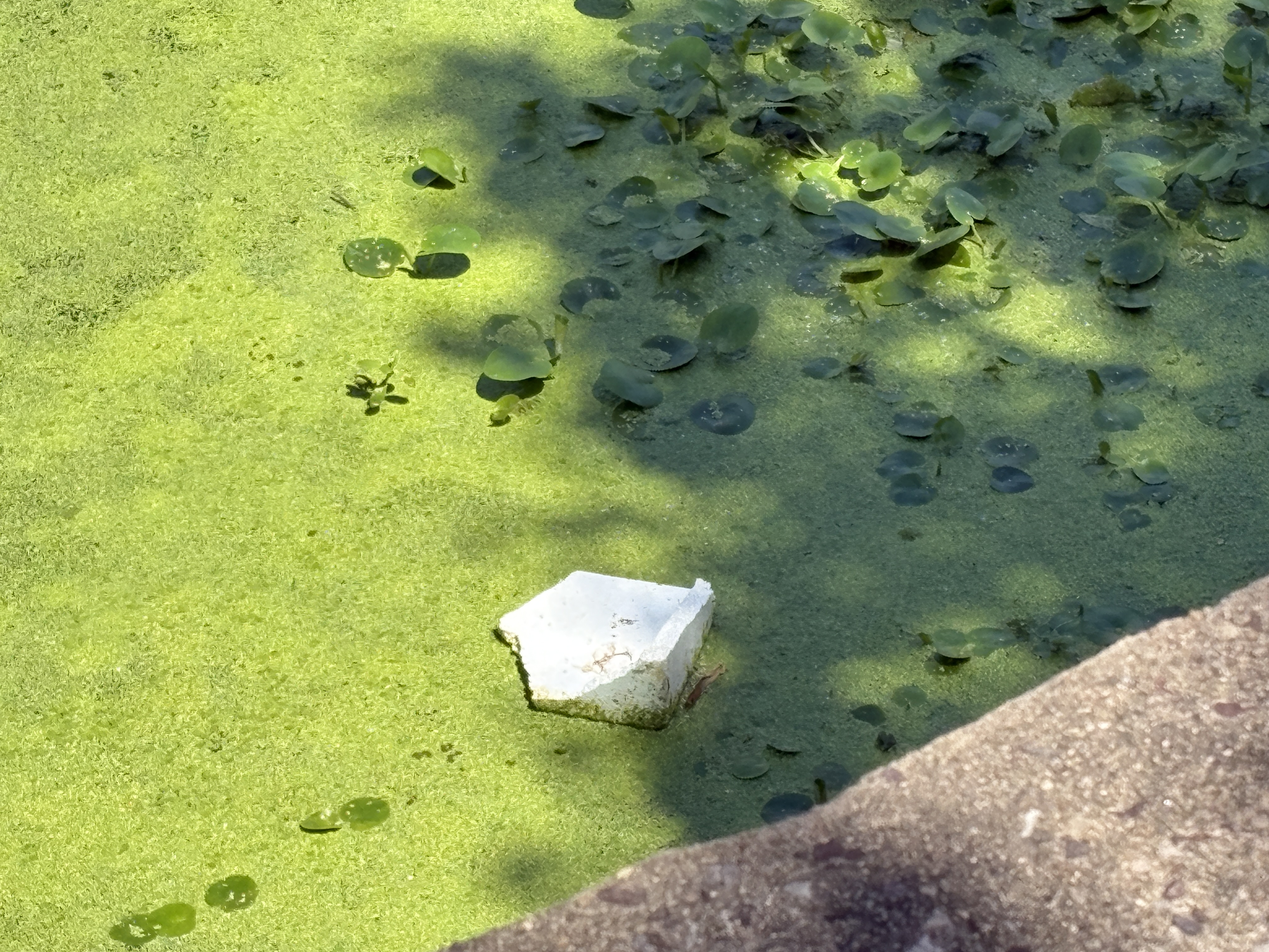Plastic wastes: (499, 574, 717, 727)
